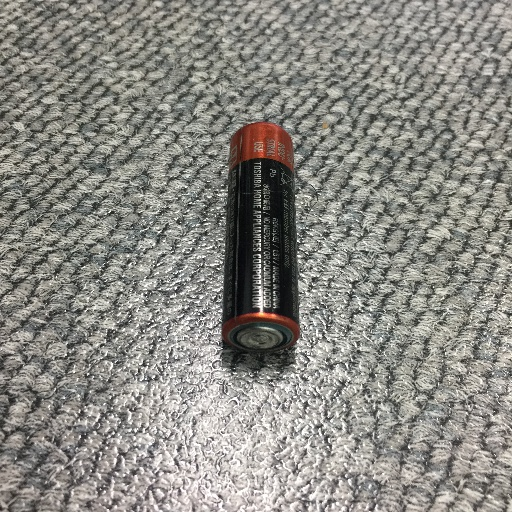Battery_0: (203, 109, 318, 376)
